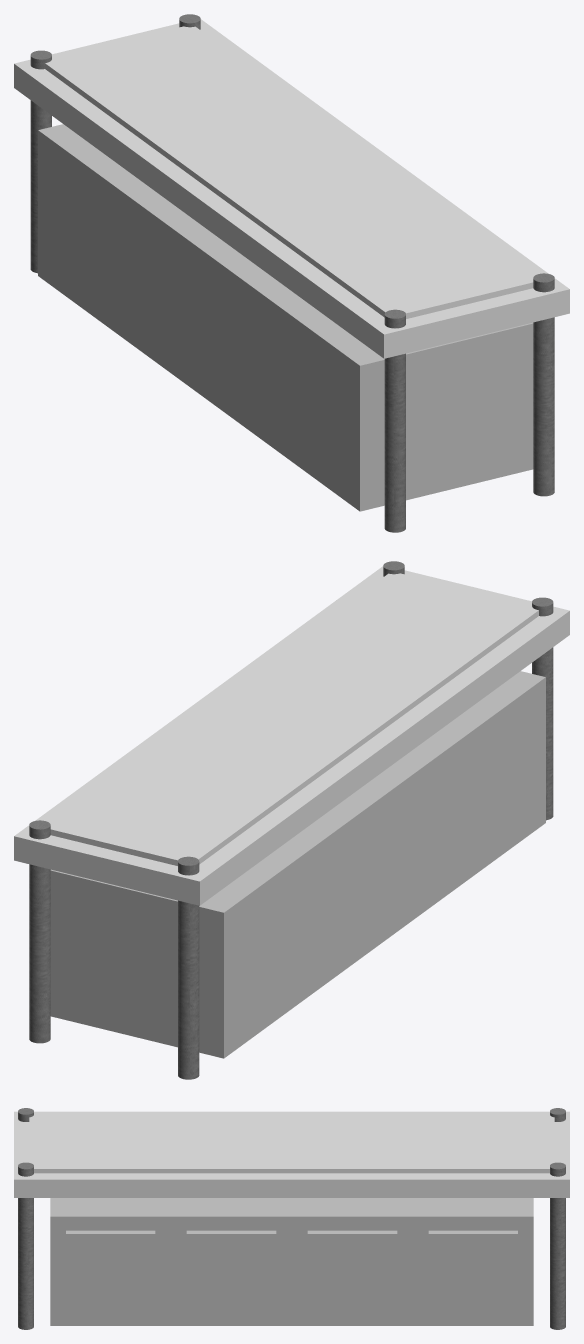
Rendered from TVStand.fbx.
3 renders of one model, top to bottom at view 1: azimuth 30°, elevation 25°; view 2: azimuth 150°, elevation 25°; view 3: azimuth 270°, elevation 25°, orthographic. The views are drawn at different scales.
Parts seen in each view (by area): view 1: TV Stand; view 2: TV Stand; view 3: TV Stand.
Boxes of the visible parts, x1,y1,x2,y2 form: TV Stand: (14, 14, 569, 532); TV Stand: (14, 561, 569, 1079); TV Stand: (14, 1108, 569, 1329).
Size of the model in its own units: 210 by 220 by 690.
